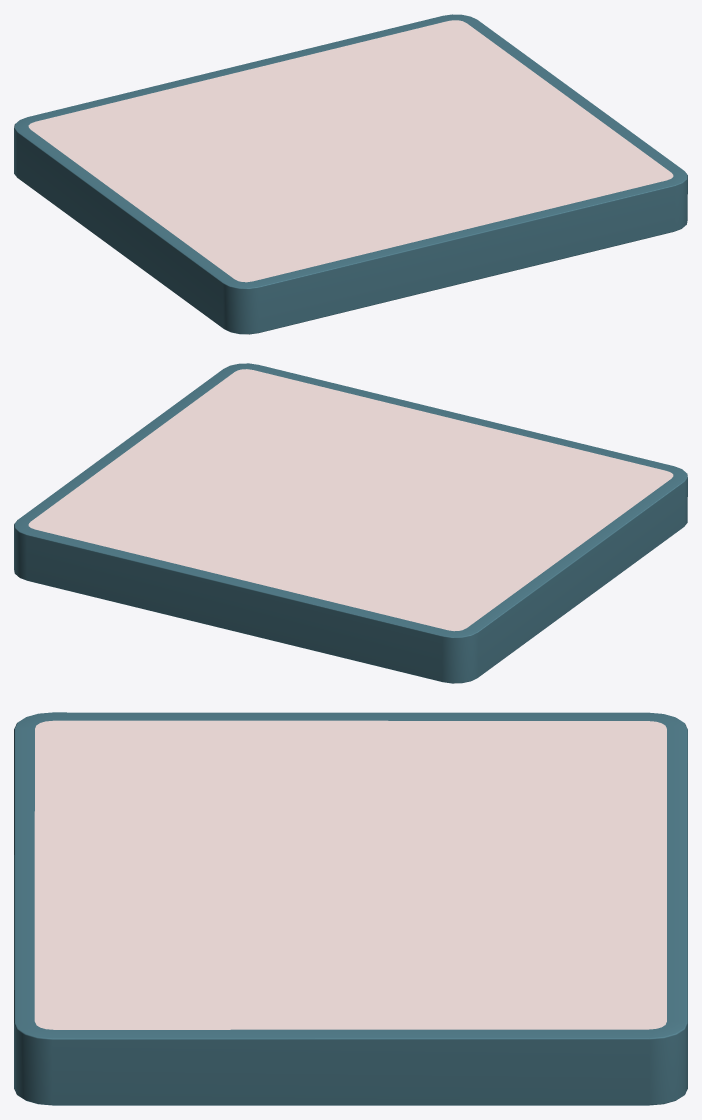
File: Public_13_Base_1.glb
3 renders of one model, top to bottom at view 1: azimuth 30°, elevation 25°; view 2: azimuth 150°, elevation 25°; view 3: azimuth 270°, elevation 25°, orthographic. The views are drawn at different scales.
Visible parts, largest first — view 1: Public_13_Base_1; view 2: Public_13_Base_1; view 3: Public_13_Base_1.
Part boxes in pixels (<box>): Public_13_Base_1: <box>14,14,687,334</box>; Public_13_Base_1: <box>14,363,687,683</box>; Public_13_Base_1: <box>14,712,687,1105</box>.
Bounding box in the file's own units: 12.57 × 1.21 × 10.96.
1 material, 1 textured.
